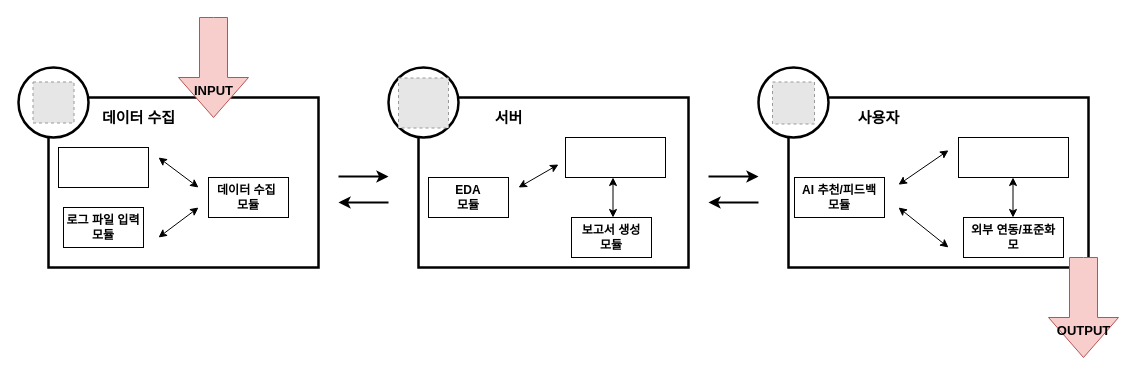
Image size: 1136x375. Some labels were removed from this diagram. Grey dashed boxes stand in for pictures. The shapes that lost their labels are listed below. From the top down, each one's centre as x and y in pixels, then its label:
the point at 103,167: 외부 연동/표준화 모듈
the point at 615,157: 데이터 품질 관리 모듈
the point at 1013,157: 사용자 인터페이스 모듈
